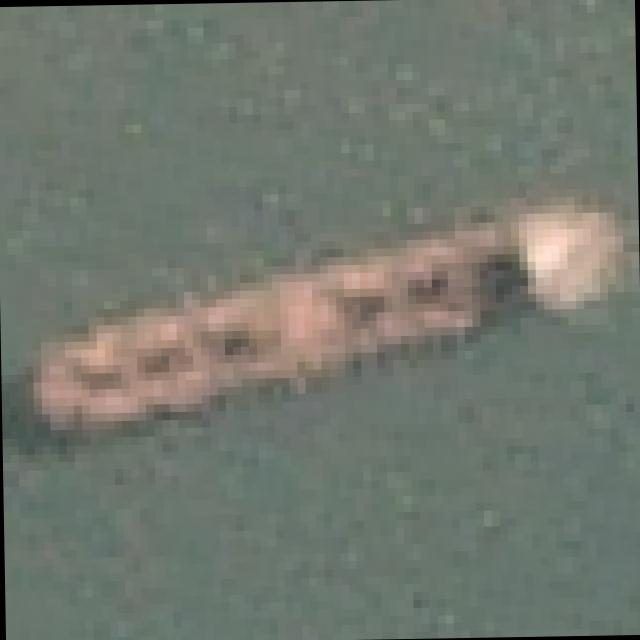ship: (12, 144, 640, 458)
